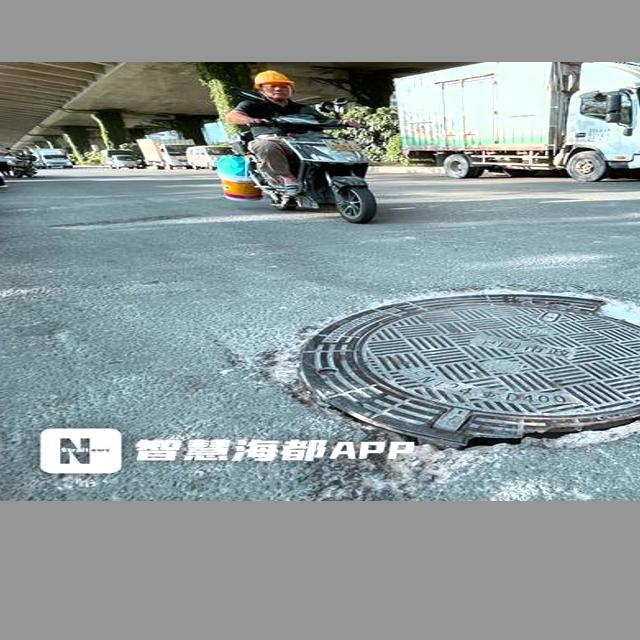circle: (212, 267, 640, 468)
